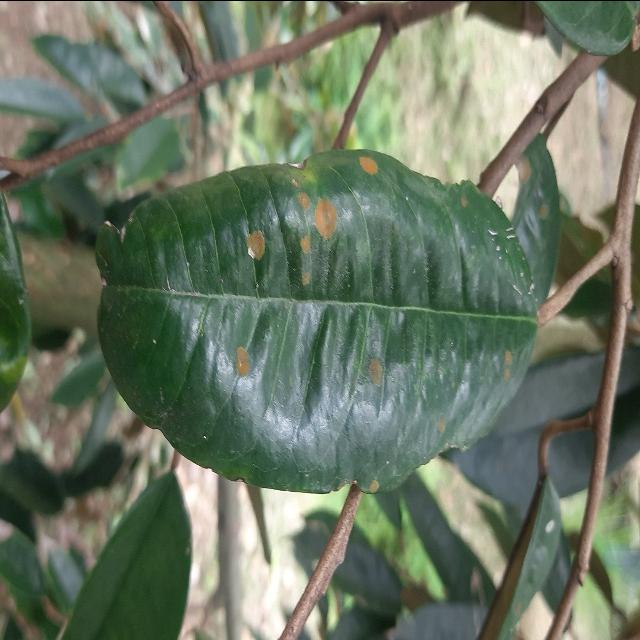Algal Leaf Spot: (89, 141, 545, 501)
